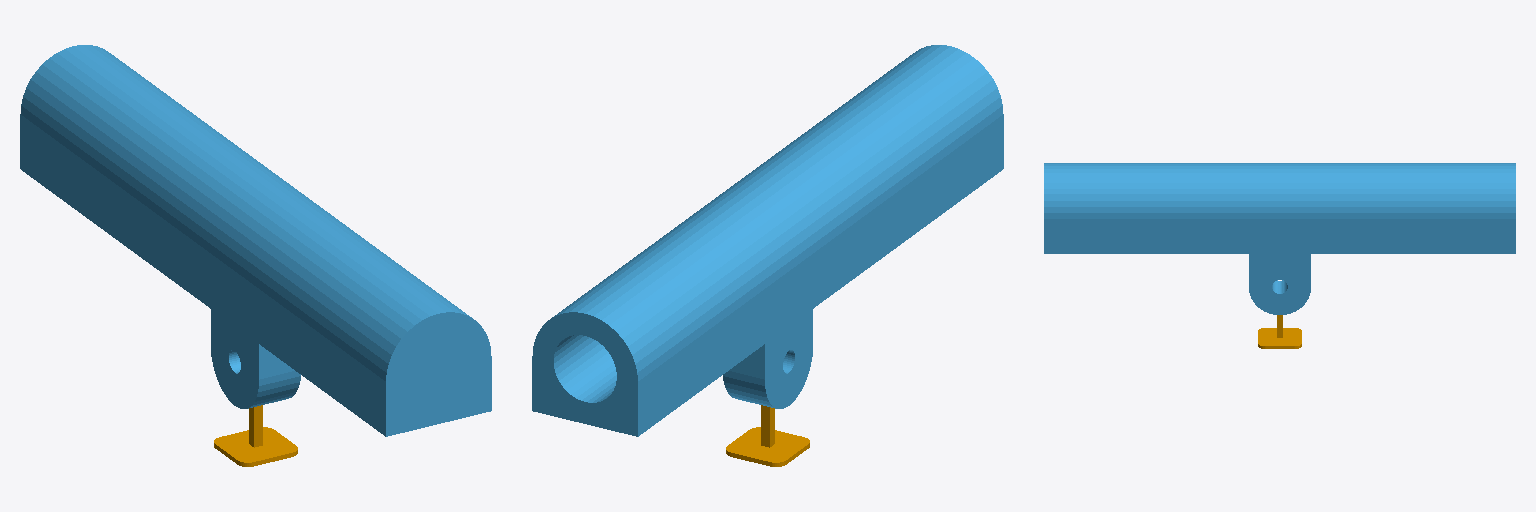
URDF robot description (HarpoonGun):
<?xml version="1.0"?>
<robot name="HarpoonGun">

  <link name="base_link">
    <!-- Base link using mesh file -->
    <visual>
      <geometry>
        <mesh filename="package://41068_ignition_bringup/urdf/meshes/harpoon_arm/base.STL"/>
      </geometry>
    </visual>
  </link>

  <link name="link1">
    <!-- Barrel -->
    <visual>
      <geometry>
        <mesh filename="package://41068_ignition_bringup/urdf/meshes/harpoon_arm/barrel.STL"/>
      </geometry>
    </visual>
  </link>

  <!-- Joints
  <joint name="joint1" type="revolute">
    <parent link="base_link"/>
    <child link="link1"/>
    <origin xyz="0 0 0.22" rpy="0 0 0"/>
    <axis xyz="1 0 0"/>
    <limit lower="0.0" upper="0.785" effort="10" velocity="1"/>
  </joint> -->

  <!-- Joint connecting base_link to barrel -->
  <joint name="joint1" type="fixed">
    <parent link="base_link"/>
    <child link="link1"/>
    <origin xyz="0 0 0.22" rpy="0 0 0"/> <!-- adjust rpy if needed to make barrel flat -->
  </joint>

</robot>

--- Facts derived from the render (not from the file) ---
Views: 3 orthographic renders of the robot side by side, from view 1: azimuth 30°, elevation 25°; view 2: azimuth 150°, elevation 25°; view 3: azimuth 270°, elevation 25°.
Model HarpoonGun with 2 links and 1 joints (1 fixed), rooted at base_link, posed every joint at zero.
Links seen in each view (by area): view 1: link1, base_link; view 2: link1, base_link; view 3: link1, base_link.
Link boxes in pixels (<box>): link1: <box>20,45,491,436</box>; base_link: <box>214,405,297,466</box>; link1: <box>532,45,1003,436</box>; base_link: <box>726,405,809,466</box>; link1: <box>1044,163,1515,314</box>; base_link: <box>1258,315,1301,348</box>.
Bounding box of the posed robot: 0.5 × 3 × 1.22 m (x, y, z).
2 mesh visuals loaded from 2 distinct referenced files (2 binary STL).